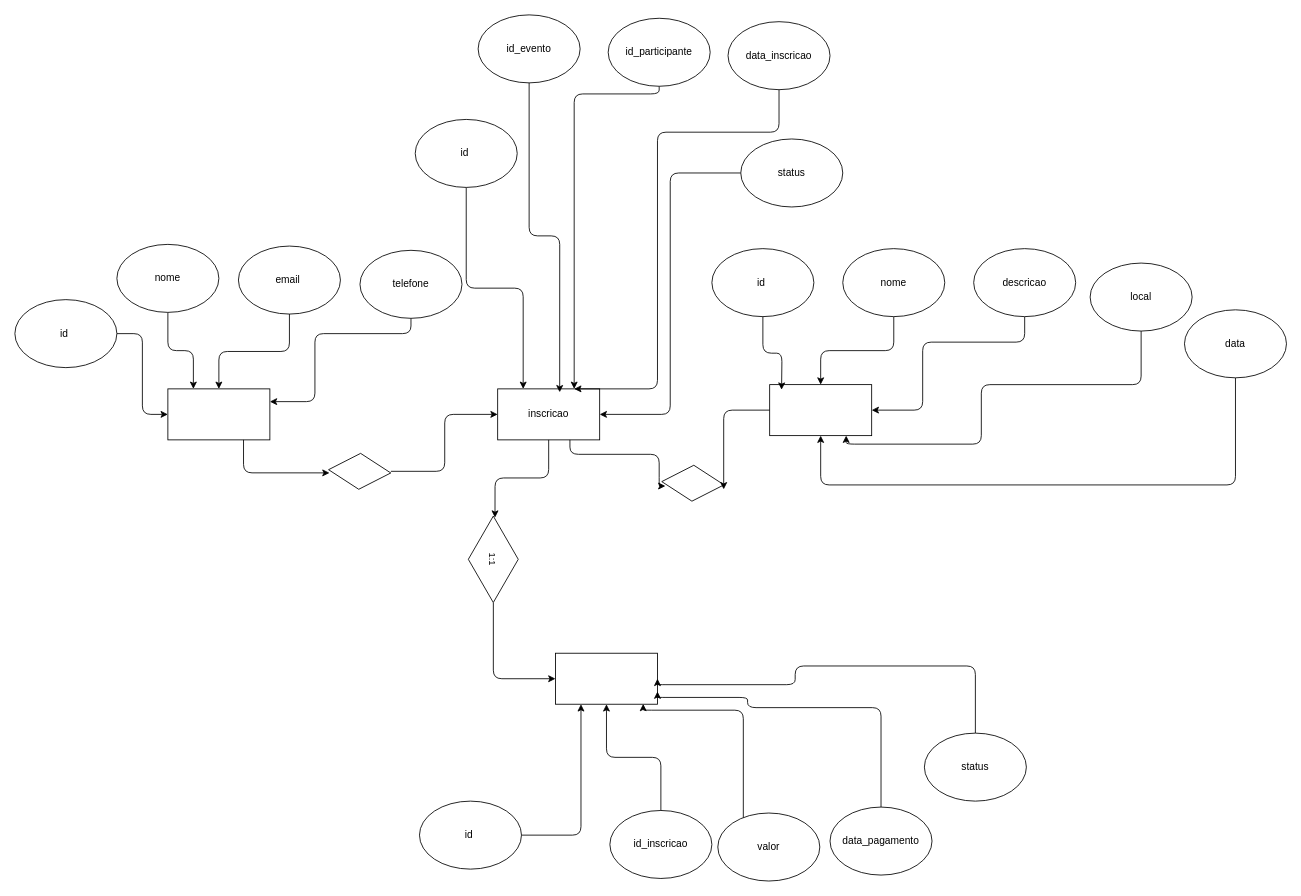
Some shapes in this 1301 by 896 pixel diagram are drawn without their labels. The shapes that lost their labels are listed below. From the top down, each one's centre as x and y in pixels, then its label:
pixel 218 414: participante
pixel 820 410: evento
pixel 359 471: 1:N
pixel 692 483: N:1
pixel 606 678: pagamento
